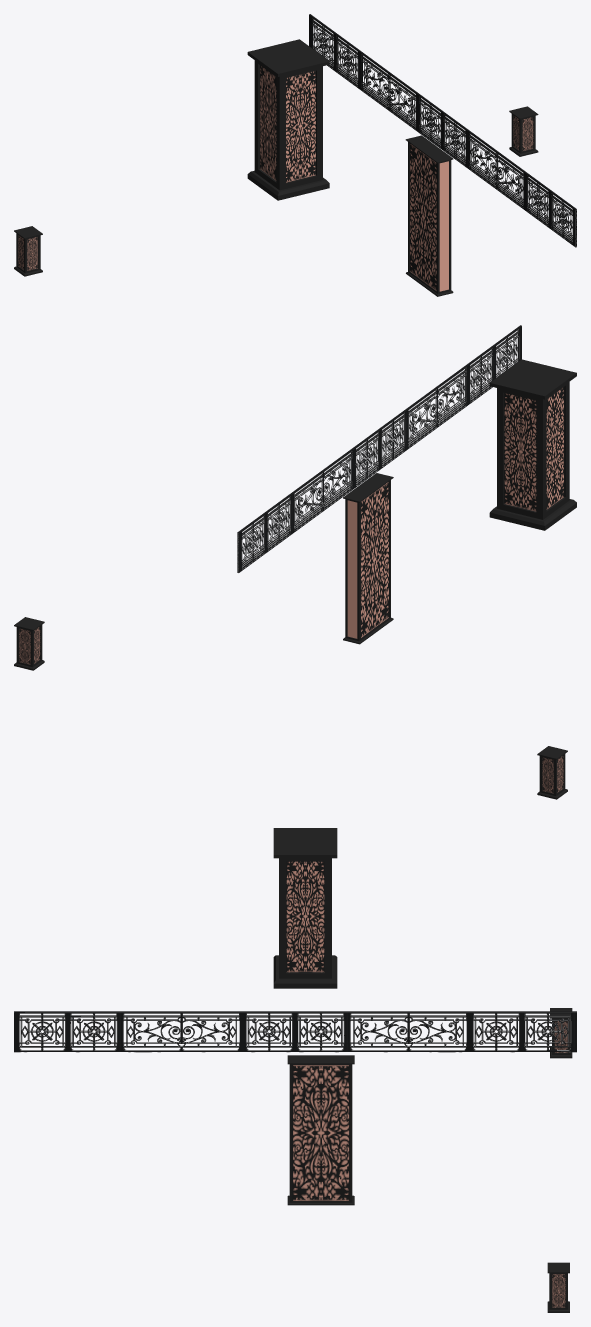
File: Piller_Railing.fbx
3 renders of one model, top to bottom at view 1: azimuth 30°, elevation 25°; view 2: azimuth 150°, elevation 25°; view 3: azimuth 270°, elevation 25°, orthographic. The views are drawn at different scales.
Parts seen in each view (by area): view 1: Piller_Railing; view 2: Piller_Railing; view 3: Piller_Railing.
Boxes of the visible parts, <box> form: Piller_Railing: <box>14,14,576,296</box>; Piller_Railing: <box>14,325,576,799</box>; Piller_Railing: <box>14,828,576,1312</box>.
Size of the model in its own units: 1674 by 838 by 1508.
3 materials, 2 textured.
